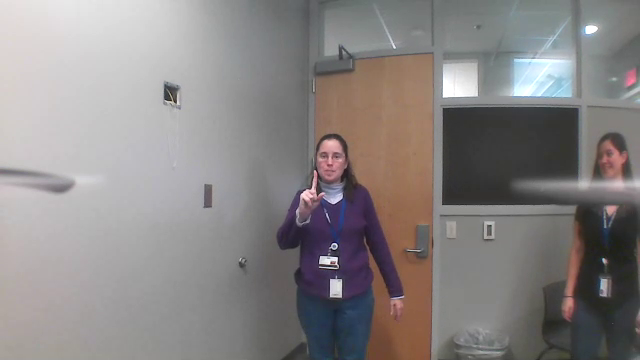up: (295, 165, 323, 210)
